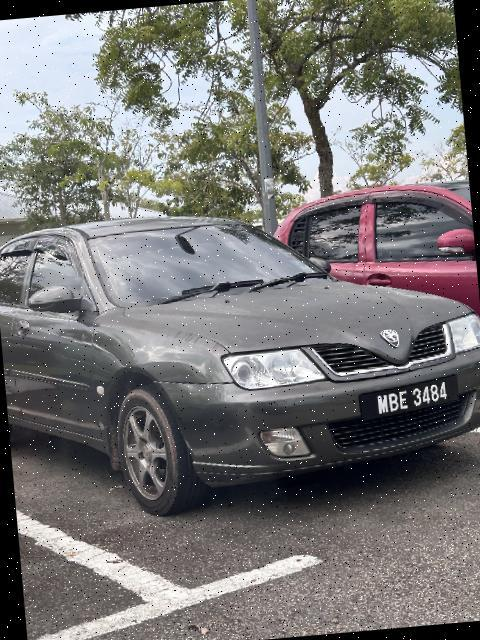License_Plate: (362, 379, 462, 421)
MBE3484: (362, 379, 462, 421)
car: (1, 182, 480, 529)
